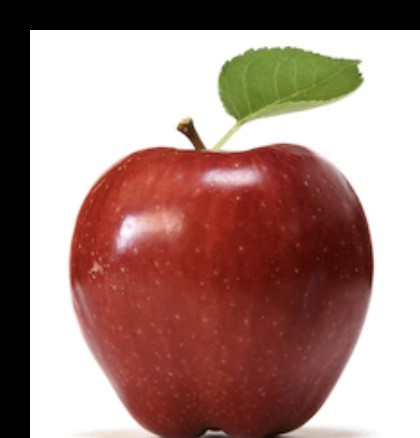fresh_apple: (70, 145, 375, 436)
